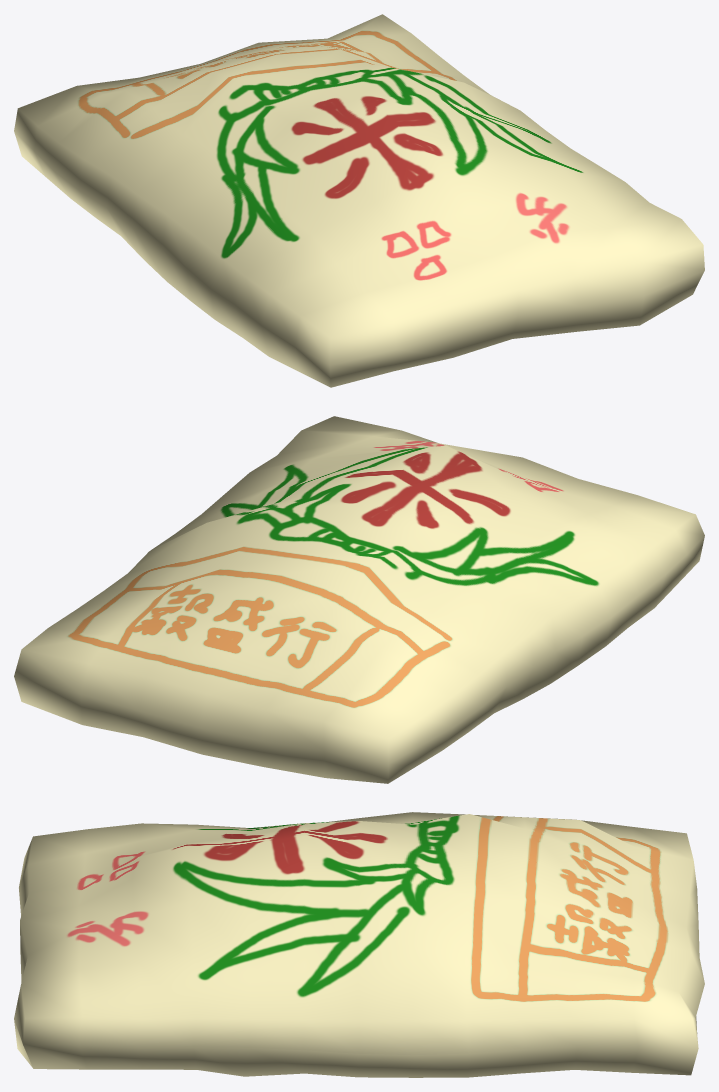
The model's file is RiseBag.fbx.
3 views of the same model, one above another, from view 1: azimuth 30°, elevation 25°; view 2: azimuth 150°, elevation 25°; view 3: azimuth 270°, elevation 25° (orthographic). The views are drawn at different scales.
Parts seen in each view (by area): view 1: Cube; view 2: Cube; view 3: Cube.
Part boxes in pixels (left/top/right/bottom): Cube: left=14, top=14, right=704, bottom=387; Cube: left=14, top=416, right=704, bottom=783; Cube: left=14, top=812, right=704, bottom=1077.
Bounding box in the file's own units: 221 × 98.84 × 316.
